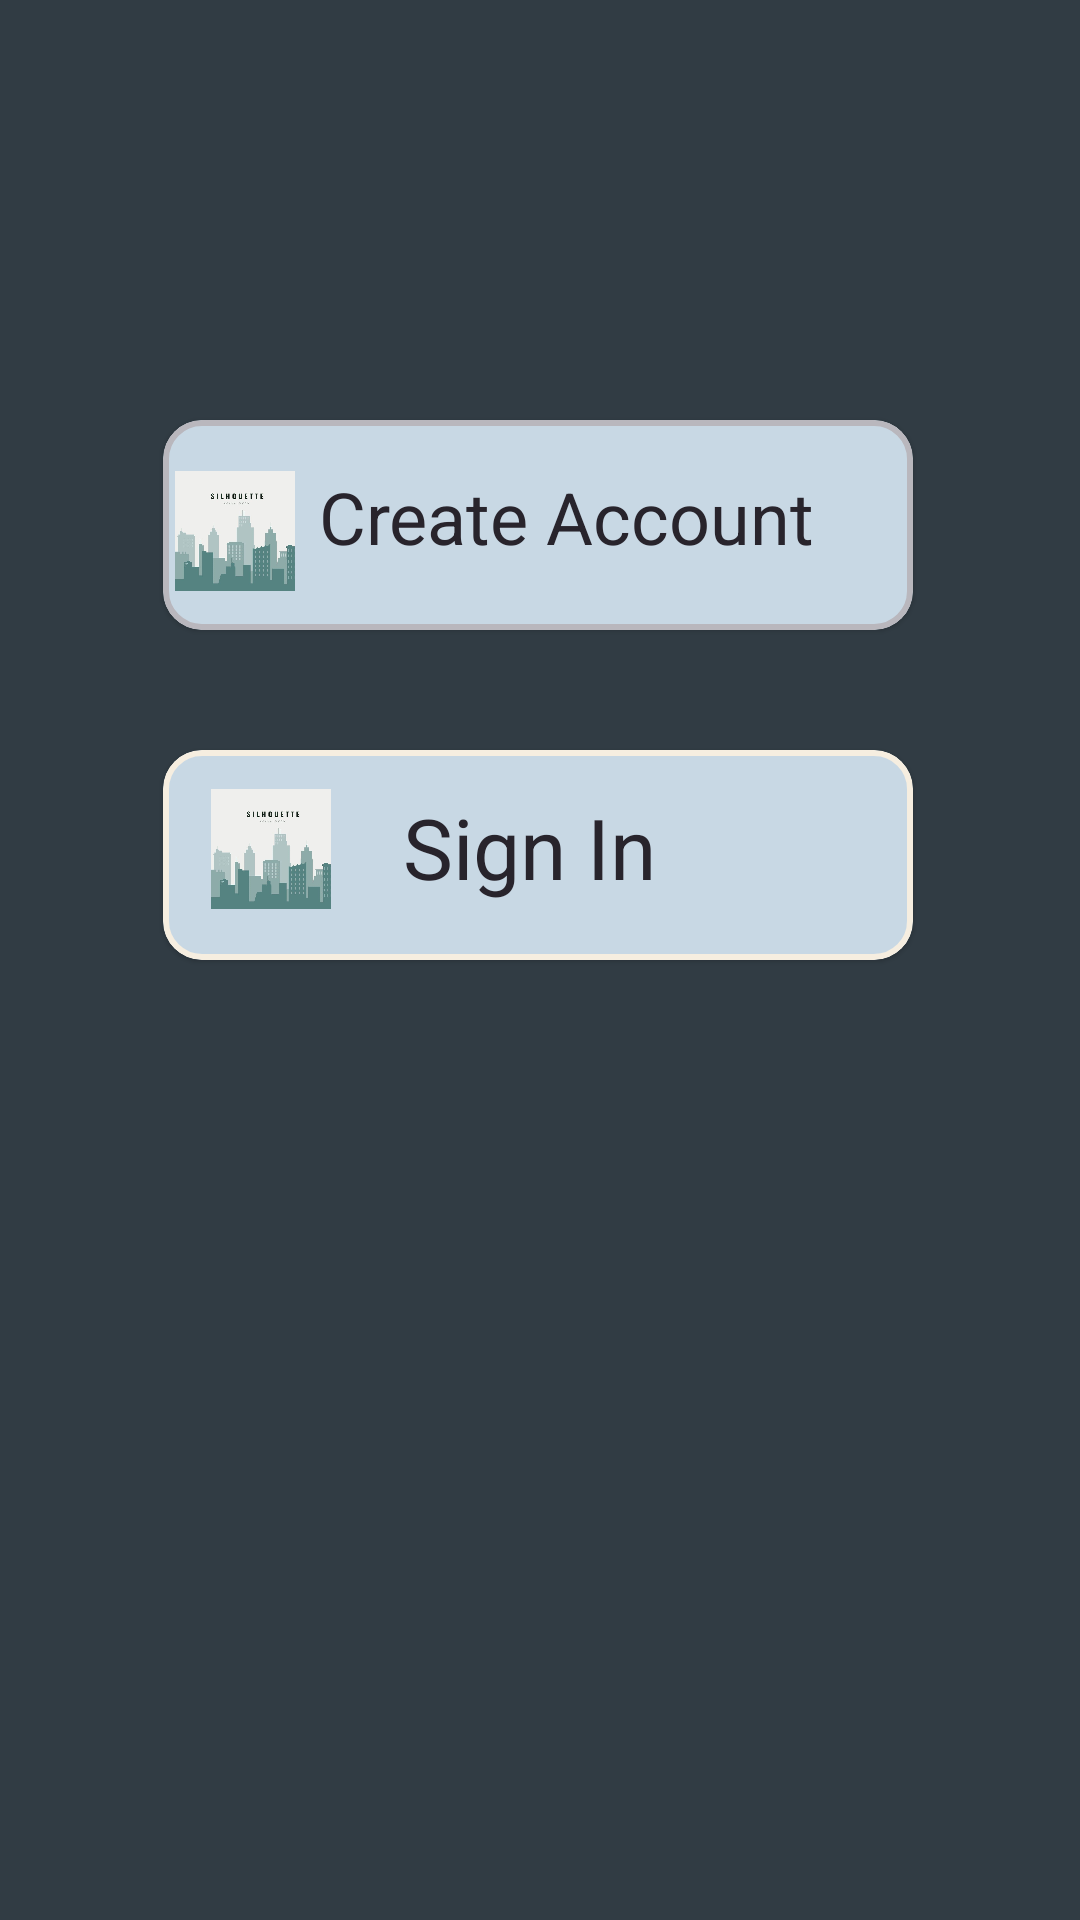

Where to tap for icons on this 1080x1920 app screen, as (x,y):
building: (235,531), (271,849)
